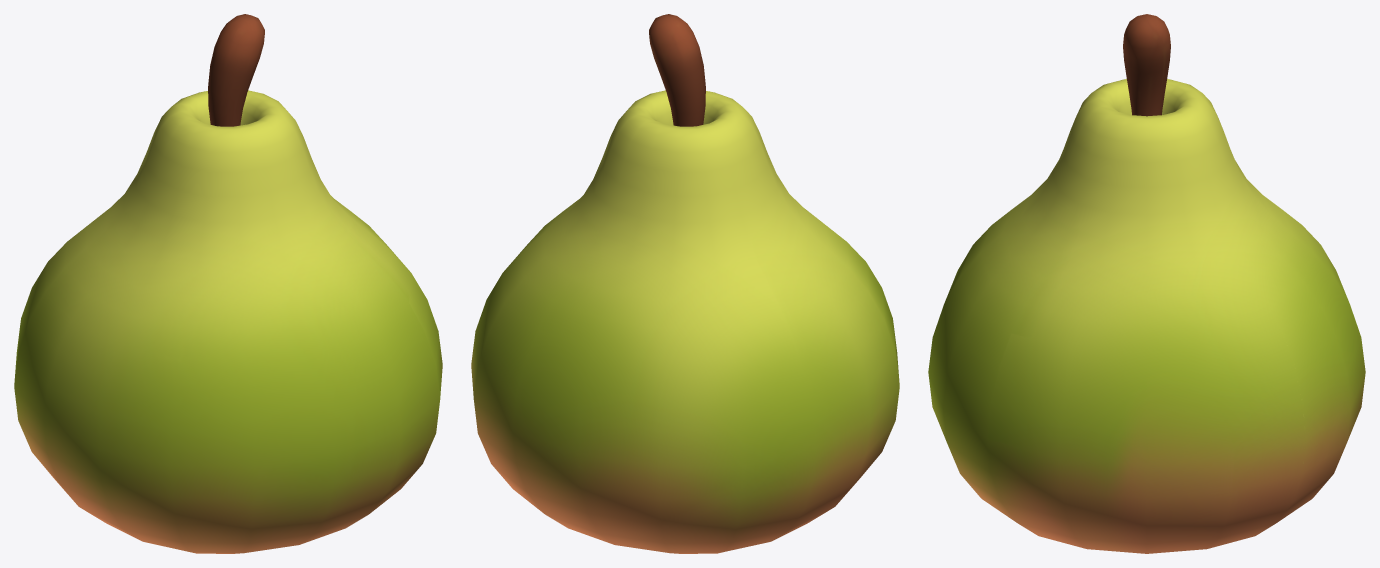
File: pear.fbx
The picture shows the model from 3 angles, left to right: view 1: azimuth 30°, elevation 25°; view 2: azimuth 150°, elevation 25°; view 3: azimuth 270°, elevation 25°; orthographic projection. The views are drawn at different scales.
Visible parts, largest first — view 1: Cube.014; view 2: Cube.014; view 3: Cube.014.
Boxes of the visible parts, bbox=[...] form: Cube.014: bbox=[14, 14, 442, 553]; Cube.014: bbox=[471, 14, 899, 553]; Cube.014: bbox=[928, 14, 1365, 553].
Size of the model in its own units: 22.07 by 28.75 by 22.07.
1 material, 1 textured.
